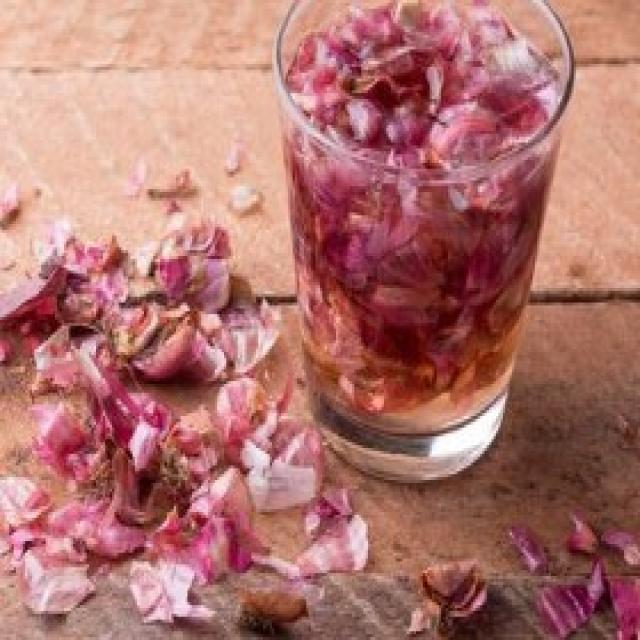electronic: (272, 0, 578, 489)
